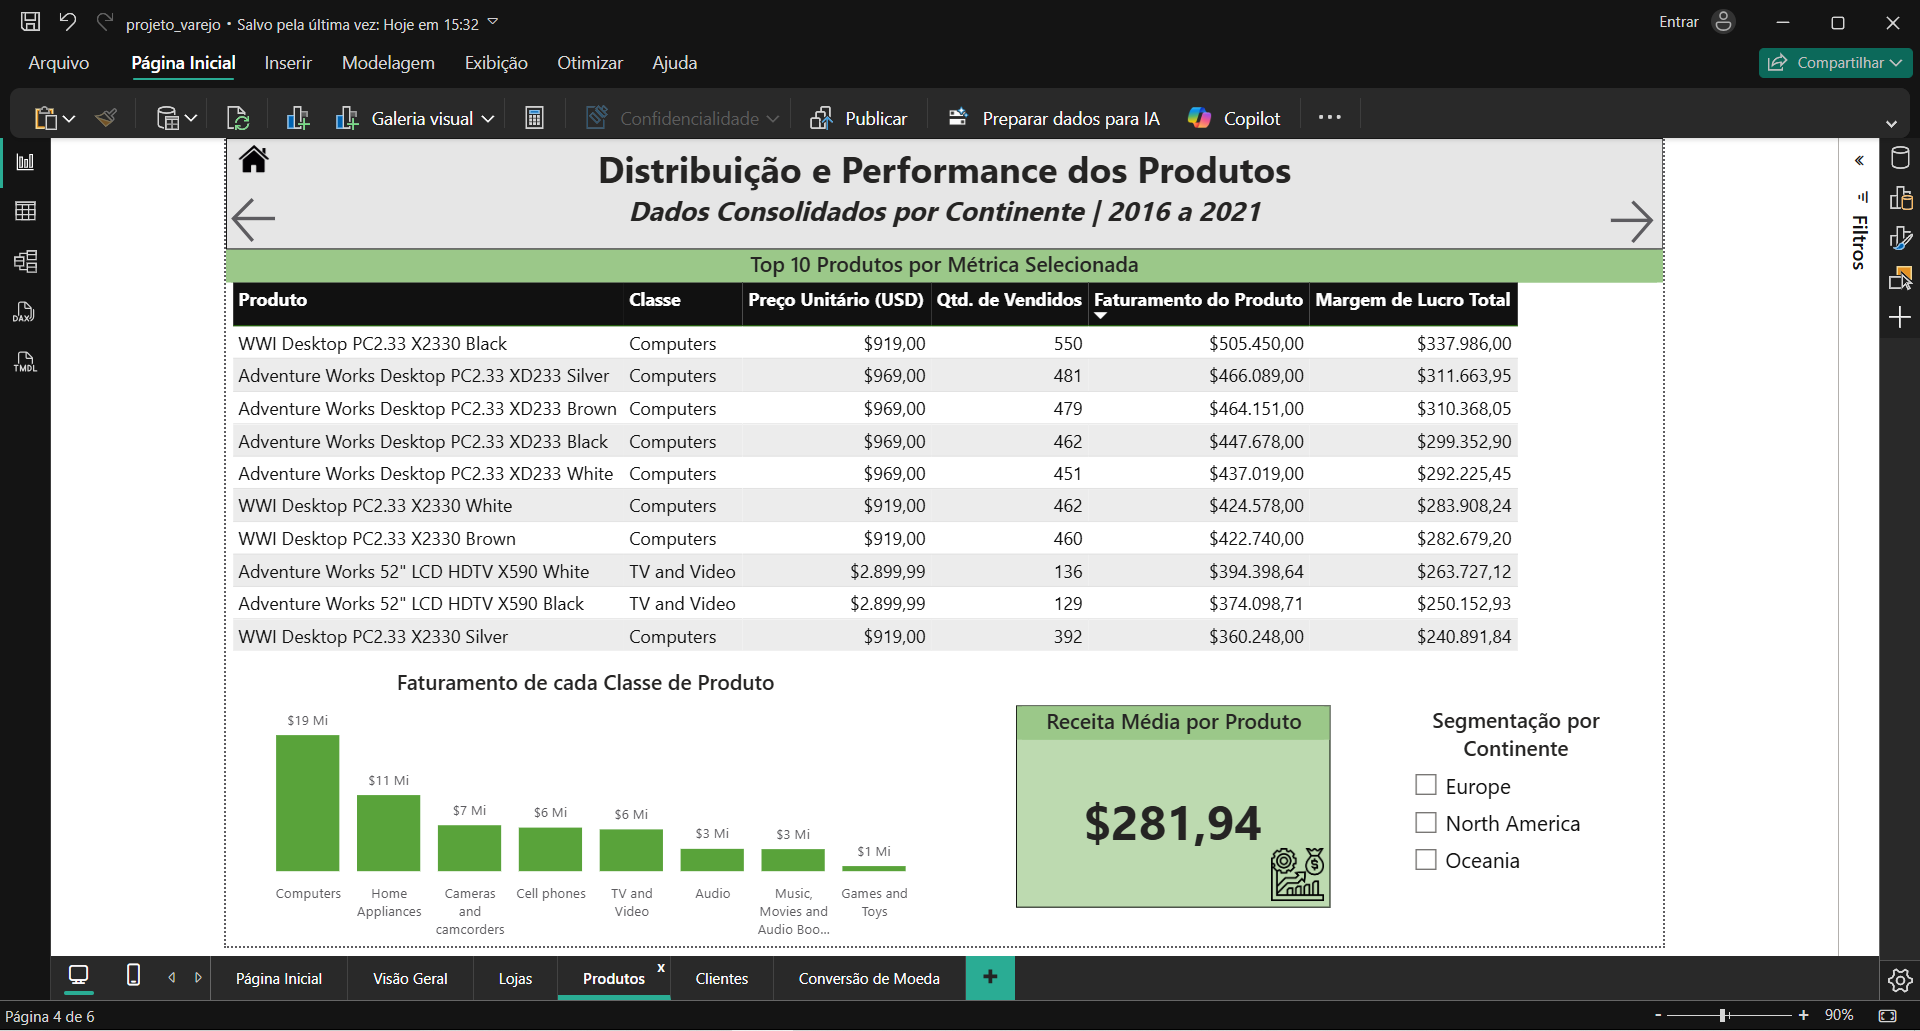

What the dashboard file says about the page in this screenshot:
{"tool":"powerbi","page":{"name":"Produtos","canvas":[1280,720],"ordinal":3},"visuals":[{"type":"card","title":"Receita Média por Produto","fields":{"Values":["Medidas.receita_produto"]},"box":[704.1,505,279.9,180.3],"z":0},{"type":"columnChart","title":"Faturamento de cada Classe de Produto","fields":{"Category":["dProdutos.classe"],"Y":["Medidas.receita_total_USD"]},"box":[0,471.8,640.6,248.2],"z":1000},{"type":"tableEx","title":"Top 10 Produtos por Métrica Selecionada","fields":{"Values":["dProdutos.nome_produto","dProdutos.classe","dProdutos.preco_produto_USD","Medidas.total_produtos_vendidos","Medidas.receita_total_USD","Medidas.lucro_por_produto"]},"box":[0,99.6,1279.7,372.2],"z":3000},{"type":"textbox","box":[0,0,1280,99.6],"z":3001},{"type":"slicer","title":"Segmentação por Continente","fields":{"Values":["dClientes.continente"]},"box":[1046,505,204.9,180.3],"z":3002},{"type":"image","box":[925.2,627,58.9,58.9],"z":3003},{"type":"actionButton","box":[1227,50.3,52.8,49.1],"z":3004},{"type":"actionButton","box":[0,47.9,52.8,50.3],"z":3005},{"type":"image","box":[0,0,50.3,36.8],"z":3006}]}

Visuals, with their boxes on the page's 1280x720 design canvas (x1, y1, x2, y2). These are canvas units, not pixel positions in the 1920x1031 screenshot, which may show the page scaled, cropped or inside an application window:
"Receita Média por Produto" card: (x1=704, y1=505, x2=984, y2=685)
"Faturamento de cada Classe de Produto" columnChart: (x1=0, y1=472, x2=641, y2=720)
"Top 10 Produtos por Métrica Selecionada" tableEx: (x1=0, y1=100, x2=1280, y2=472)
textbox: (x1=0, y1=0, x2=1280, y2=100)
"Segmentação por Continente" slicer: (x1=1046, y1=505, x2=1251, y2=685)
image: (x1=925, y1=627, x2=984, y2=686)
actionButton: (x1=1227, y1=50, x2=1280, y2=99)
actionButton: (x1=0, y1=48, x2=53, y2=98)
image: (x1=0, y1=0, x2=50, y2=37)
